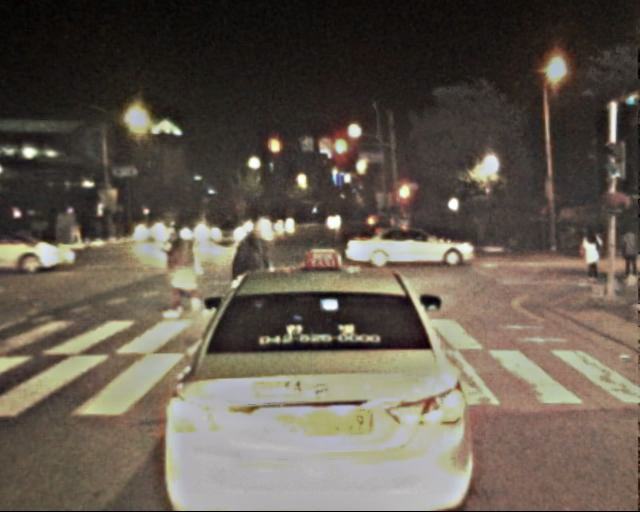person: (221, 217, 276, 351), (161, 221, 202, 322), (579, 226, 603, 285), (618, 226, 640, 282)
